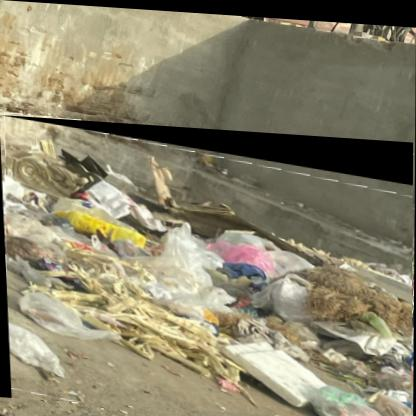Garbage: (1, 116, 416, 416)
